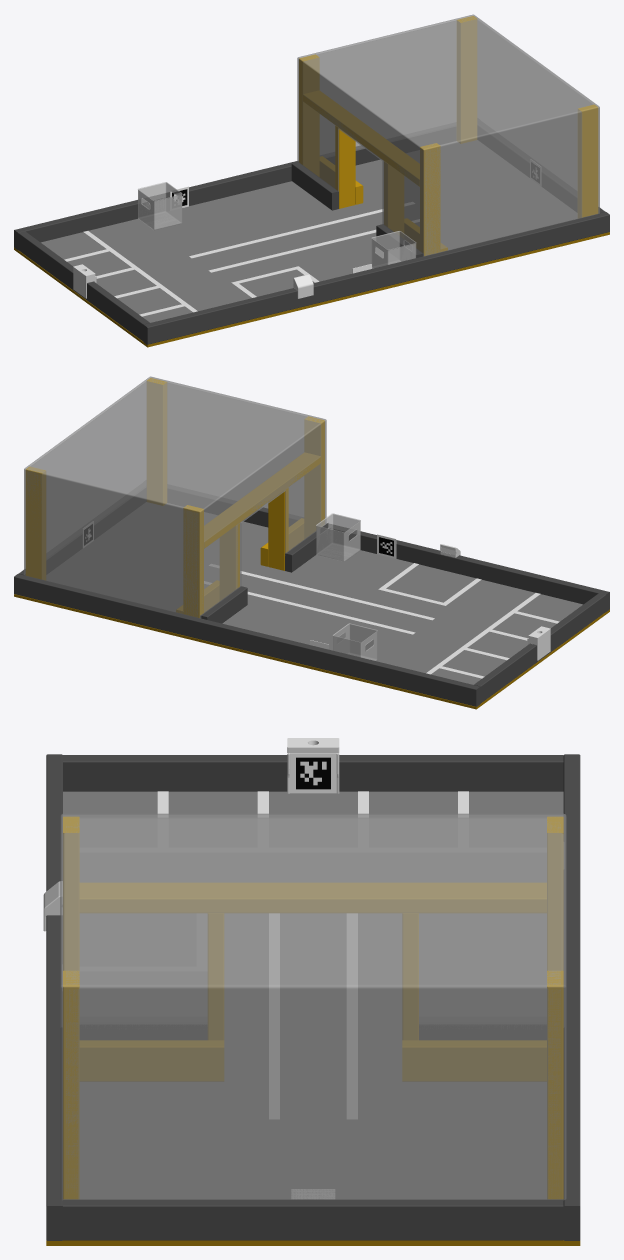
File: field.obj
The picture shows the model from 3 angles, top to bottom: view 1: azimuth 30°, elevation 25°; view 2: azimuth 150°, elevation 25°; view 3: azimuth 270°, elevation 25°; orthographic projection. The views are drawn at different scales.
Parts seen in each view (by area): view 1: mesh301, mesh279, mesh293, mesh273, mesh290, mesh286, mesh1019.001, mesh541.002, mesh265, mesh265.001, mesh541.001, mesh265.002 (+27 smaller); view 2: mesh301, mesh279, mesh299, mesh281, mesh290, mesh286, mesh1023.001, mesh541.001, mesh265.003, mesh265.002, mesh265.001, mesh1023 (+28 smaller); view 3: mesh302, mesh272, mesh301, mesh279, mesh265.001, mesh265.002, mesh844.001, mesh541, mesh541.003, mesh844, mesh541.001, mesh541.002 (+38 smaller).
Boxes of the visible parts, x1,y1,x2,y2 form: mesh301: (299,15,597,148); mesh279: (305,18,592,146); mesh293: (424,108,599,256); mesh273: (425,113,581,254); mesh290: (297,59,422,253); mesh286: (303,63,422,252); mesh1019.001: (147,215,609,344); mesh541.002: (136,191,312,265); mesh265: (41,219,198,288); mesh265.001: (441,182,577,244); mesh541.001: (197,237,353,299); mesh265.002: (364,140,535,206); mesh301: (26,377,324,510); mesh279: (28,379,319,508); mesh299: (24,470,199,618); mesh281: (27,472,198,615); mesh290: (201,421,326,615); mesh286: (204,425,320,611); mesh1023.001: (14,577,476,706); mesh541.001: (312,554,489,626); mesh265.003: (426,581,582,650); mesh265.002: (46,544,182,605); mesh265.001: (88,502,262,567); mesh1023: (167,489,597,604); mesh302: (63,988,563,1199); mesh272: (66,990,560,1198); mesh301: (63,814,563,984); mesh279: (66,818,560,985); mesh265.001: (80,1120,317,1198); mesh265.002: (309,1120,546,1198); mesh844.001: (63,1207,563,1239); mesh541: (80,1009,317,1122); mesh541.003: (309,1009,546,1122); mesh844: (63,762,563,791); mesh541.001: (224,913,317,1011); mesh541.002: (309,913,401,1011).
Size of the model in its own units: 2.44 by 0.6406 by 1.23.
